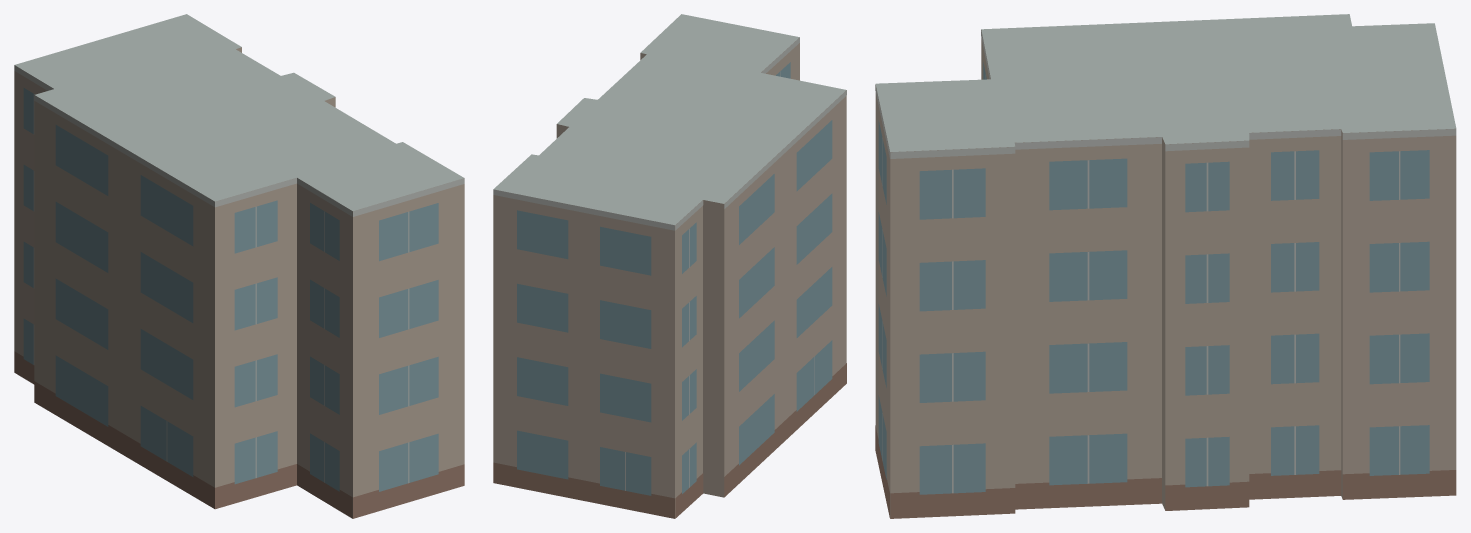
Rendered from survey-upis-32708756.glb.
3 views of the same model, side by side, from view 1: azimuth 30°, elevation 25°; view 2: azimuth 150°, elevation 25°; view 3: azimuth 270°, elevation 25° (orthographic). The views are drawn at different scales.
Parts seen in each view (by area): view 1: survey-upis-32708756.tmp; view 2: survey-upis-32708756.tmp; view 3: survey-upis-32708756.tmp.
Part boxes in pixels (x1,y1,x2,y2): survey-upis-32708756.tmp: (14, 14, 464, 518); survey-upis-32708756.tmp: (493, 14, 846, 518); survey-upis-32708756.tmp: (875, 14, 1456, 518).
Bounding box in the file's own units: 10.43 × 12.9 × 18.53.
